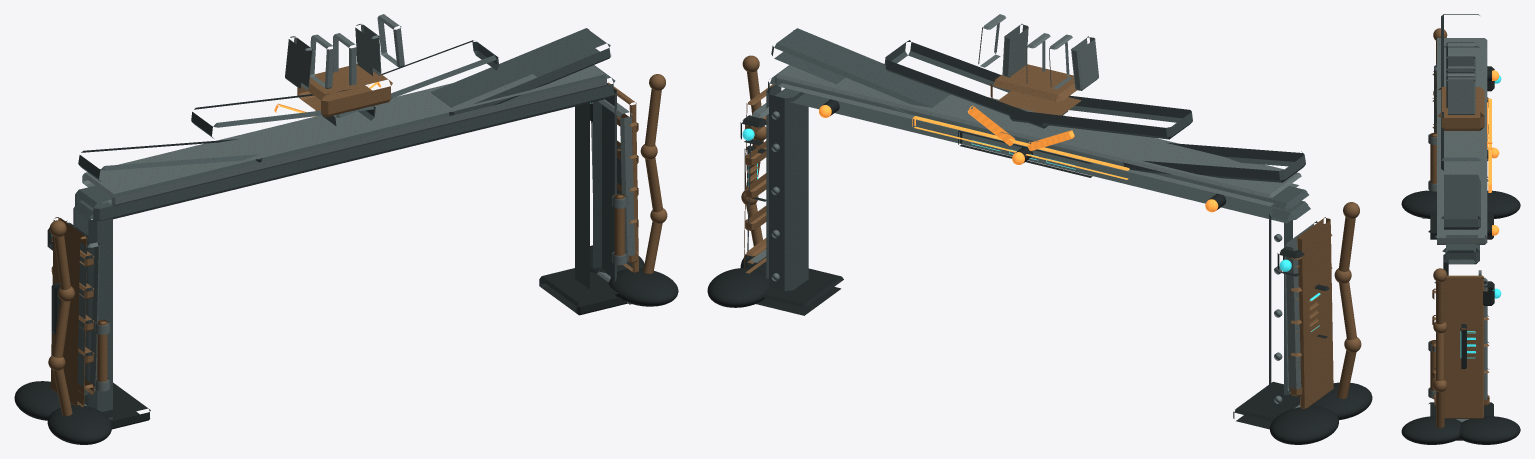
Rendered from heartforge_threshold.gltf.
The picture shows the model from 3 angles, left to right: view 1: azimuth 30°, elevation 25°; view 2: azimuth 150°, elevation 25°; view 3: azimuth 270°, elevation 25°; orthographic projection. The views are drawn at different scales.
Visible parts, largest first — view 1: ThresholdLintelCase, ThresholdLintel, ThresholdPillarR, ThresholdCrownBeamRight, ThresholdPillarL, ThresholdCrownKeystone, LeftPillarCopperSpine, ThresholdFootR, LeftPillarOuterShield, RightThresholdRootShoe01, LeftThresholdRootShoe01, RightPillarOuterShield (+11 smaller); view 2: ThresholdLintelCase, ThresholdLintel, ThresholdPillarR, LeftPillarCopperSpine, ThresholdCrownBeamRight, ThresholdCrownBeamInnerLeft, ThresholdCrownBeamInnerRight, ThresholdCrownBeamLeft, ThresholdCrownKeystone, LeftThresholdRootShoe00, ThresholdFootR, RightThresholdRootShoe00 (+7 smaller); view 3: RightPillarCopperSpine, ThresholdLintelCase, ThresholdCrownBeamRight, RightThresholdRootShoe00, RightThresholdRootShoe01, ThresholdCrownKeystone, ThresholdCrownFin04, LeftThresholdRootShoe01, LeftThresholdRootShoe00, ThresholdLintel, RightThresholdRootConduit01, RightPillarOuterShield (+20 smaller).
Boxes of the visible parts, left/top/right/bottom form: ThresholdLintelCase: left=82, top=65, right=607, bottom=205; ThresholdLintel: left=75, top=65, right=615, bottom=221; ThresholdPillarR: left=575, top=83, right=616, bottom=295; ThresholdCrownBeamRight: left=431, top=28, right=610, bottom=115; ThresholdPillarL: left=73, top=200, right=113, bottom=420; ThresholdCrownKeystone: left=297, top=64, right=392, bottom=117; LeftPillarCopperSpine: left=50, top=217, right=87, bottom=407; ThresholdFootR: left=539, top=268, right=627, bottom=315; LeftPillarOuterShield: left=65, top=220, right=99, bottom=391; RightThresholdRootShoe01: left=608, top=268, right=678, bottom=306; LeftThresholdRootShoe01: left=47, top=405, right=111, bottom=444; RightPillarOuterShield: left=590, top=99, right=634, bottom=262; ThresholdLintelCase: left=775, top=65, right=1301, bottom=206; ThresholdLintel: left=768, top=65, right=1308, bottom=223; ThresholdPillarR: left=766, top=85, right=808, bottom=291; LeftPillarCopperSpine: left=1297, top=217, right=1333, bottom=409; ThresholdCrownBeamRight: left=771, top=28, right=950, bottom=113; ThresholdCrownBeamInnerLeft: left=1009, top=95, right=1192, bottom=139; ThresholdCrownBeamInnerRight: left=884, top=40, right=1067, bottom=128; ThresholdCrownBeamLeft: left=1122, top=142, right=1305, bottom=182; ThresholdCrownKeystone: left=990, top=64, right=1081, bottom=115; LeftThresholdRootShoe00: left=1270, top=406, right=1338, bottom=444; ThresholdFootR: left=756, top=268, right=843, bottom=315; RightThresholdRootShoe00: left=707, top=268, right=770, bottom=307; RightPillarCopperSpine: left=1444, top=275, right=1483, bottom=418; ThresholdLintelCase: left=1435, top=38, right=1487, bottom=244; ThresholdCrownBeamRight: left=1441, top=174, right=1480, bottom=229; RightThresholdRootShoe00: left=1459, top=416, right=1520, bottom=444; RightThresholdRootShoe01: left=1401, top=416, right=1461, bottom=444; ThresholdCrownKeystone: left=1437, top=87, right=1484, bottom=130; ThresholdCrownFin04: left=1446, top=77, right=1475, bottom=114; LeftThresholdRootShoe01: left=1401, top=190, right=1436, bottom=218; LeftThresholdRootShoe00: left=1487, top=190, right=1520, bottom=218; ThresholdLintel: left=1442, top=235, right=1479, bottom=264; RightThresholdRootConduit01: left=1436, top=332, right=1444, bottom=381; RightPillarOuterShield: left=1434, top=277, right=1487, bottom=399.
Size of the model in its own units: 9.61 by 4.85 by 1.95.
Materials: 6 (6 with a texture image).
